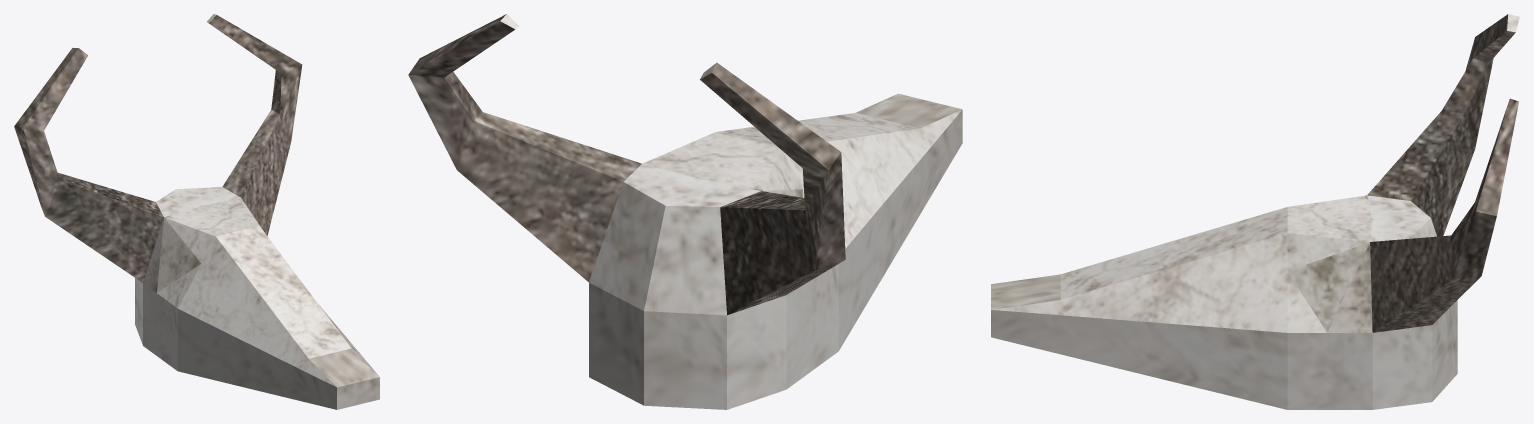
The model's file is cow_skull.fbx.
3 renders of one model, left to right at view 1: azimuth 30°, elevation 25°; view 2: azimuth 150°, elevation 25°; view 3: azimuth 270°, elevation 25°, orthographic. The views are drawn at different scales.
Visible parts, largest first — view 1: Cube; view 2: Cube; view 3: Cube.
Boxes of the visible parts, x1,y1,x2,y2 form: Cube: (14, 14, 379, 409); Cube: (408, 14, 962, 409); Cube: (991, 14, 1519, 409).
Size of the model in its own units: 466 by 414 by 622.
